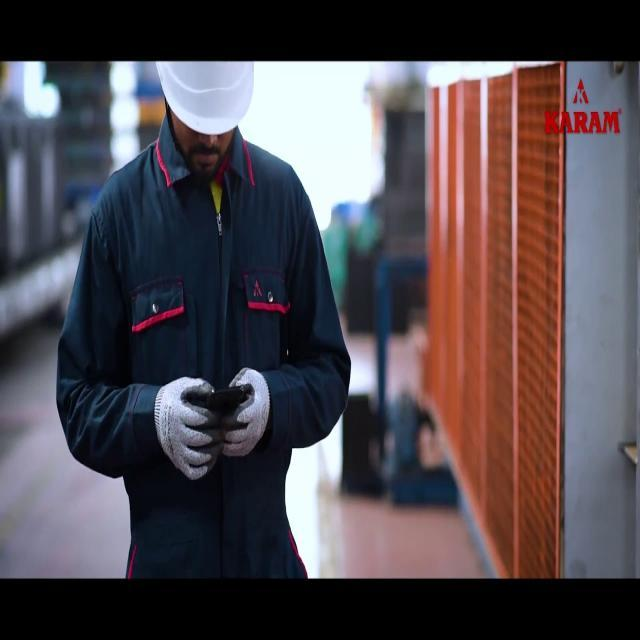safety_helmet: (150, 59, 259, 137)
